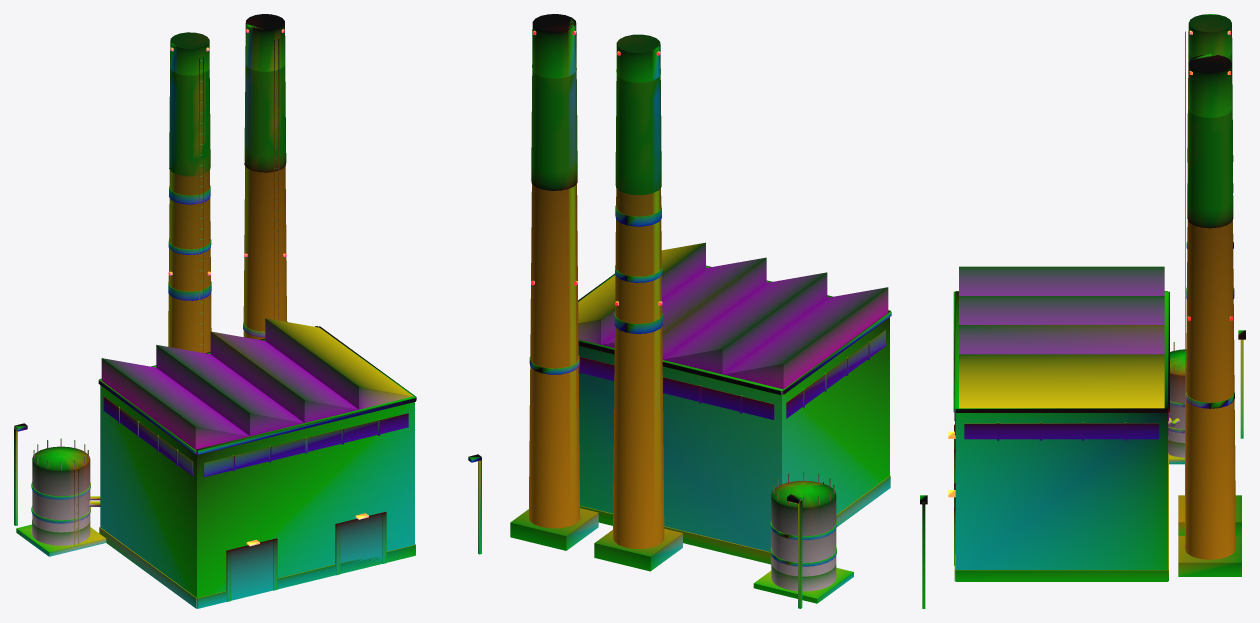
Rendered from Ind_Stacks.fbx.
3 renders of one model, left to right at view 1: azimuth 30°, elevation 25°; view 2: azimuth 150°, elevation 25°; view 3: azimuth 270°, elevation 25°, orthographic. The views are drawn at different scales.
Visible parts, largest first — view 1: Ind_Stacks_LOD0; view 2: Ind_Stacks_LOD0; view 3: Ind_Stacks_LOD0.
Boxes of the visible parts, left/top/right/bottom form: Ind_Stacks_LOD0: left=14, top=14, right=481, bottom=608; Ind_Stacks_LOD0: left=510, top=14, right=891, bottom=608; Ind_Stacks_LOD0: left=920, top=14, right=1245, bottom=608.
Size of what is drawn, in the model's own units: 39.05 by 52 by 30.7.
